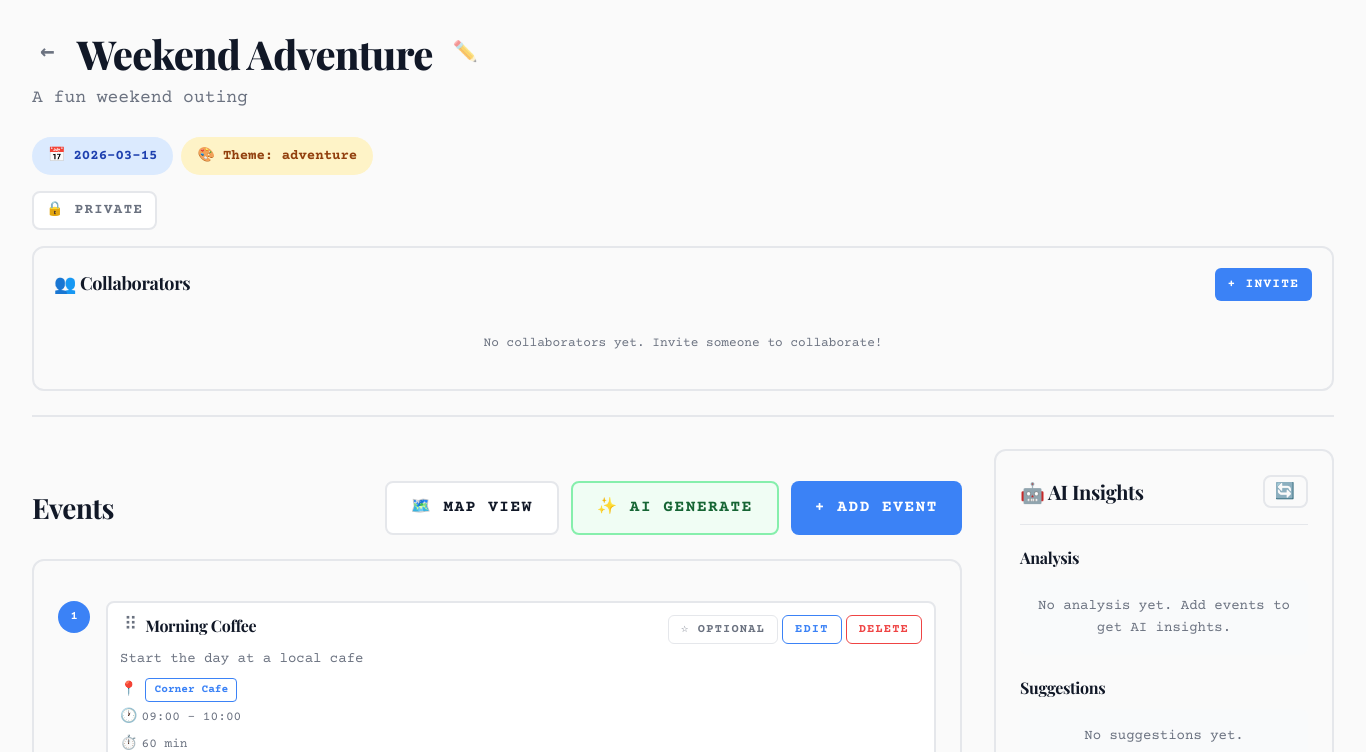
it: PlanDetailPage - AI Generation › should show driving toggle in plan edit form
Expected: the heading "Weekend Adventure" is shown, [77,32,433,76]
// Open the edit plan form via pencil icon
Click the button named "Edit plan details" at (466, 54), box [445,40,488,68]
(page scrolled)
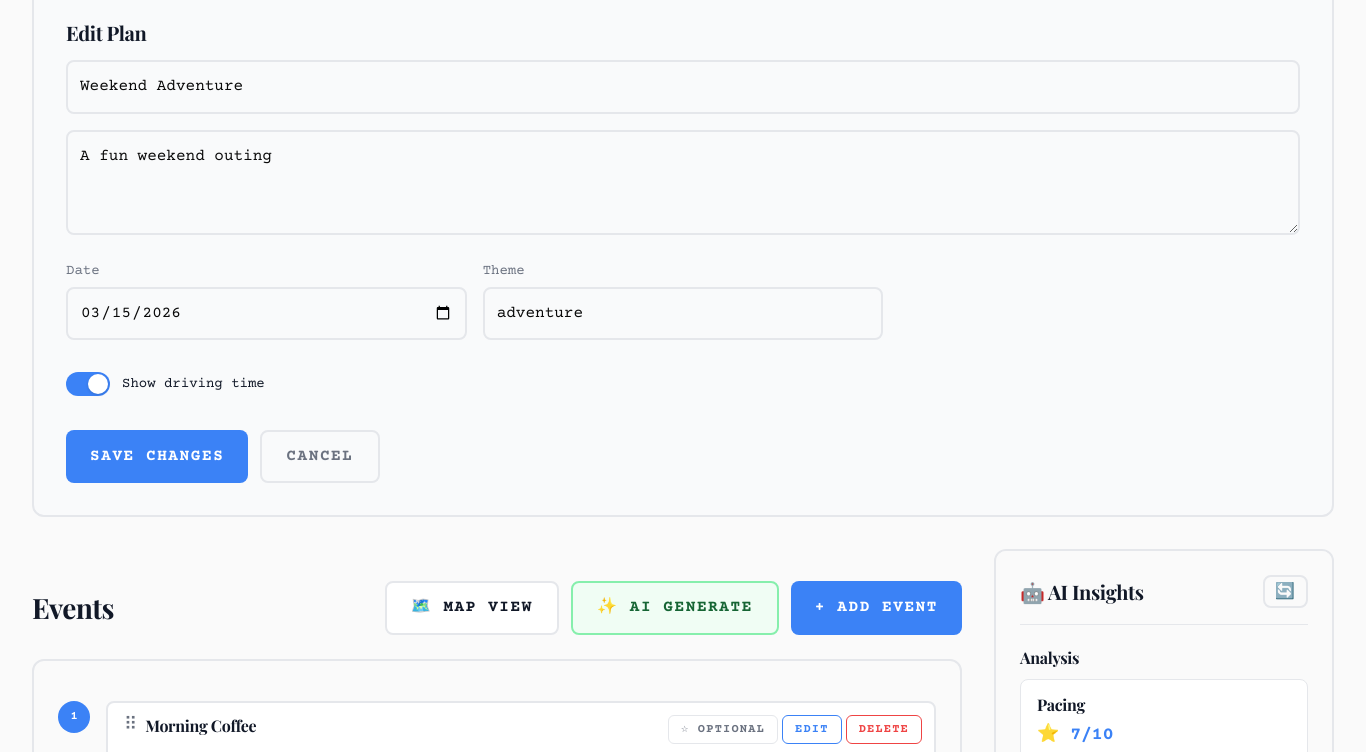
Expected: the checkbox "Show driving time" is shown, [66,372,265,396]
